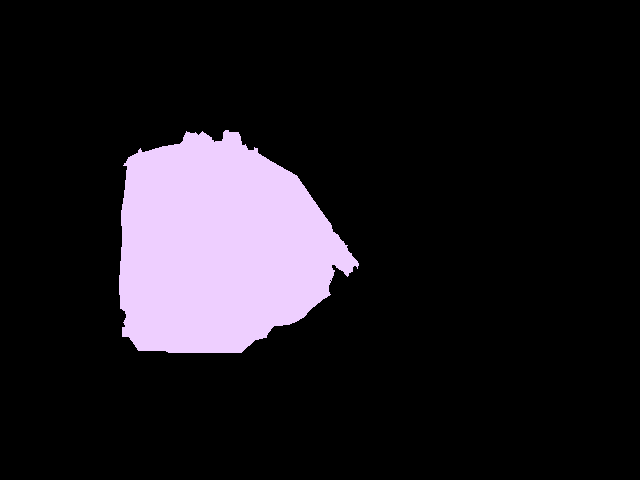Train: (119, 130, 358, 352)
